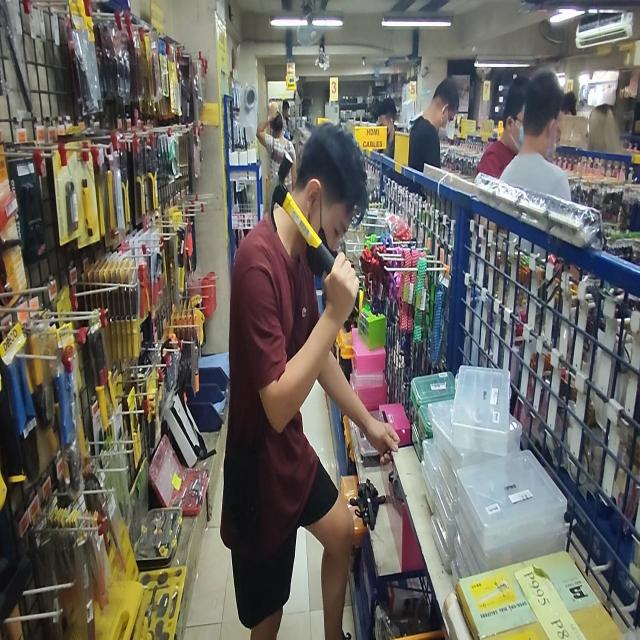hammer: (268, 152, 363, 314)
